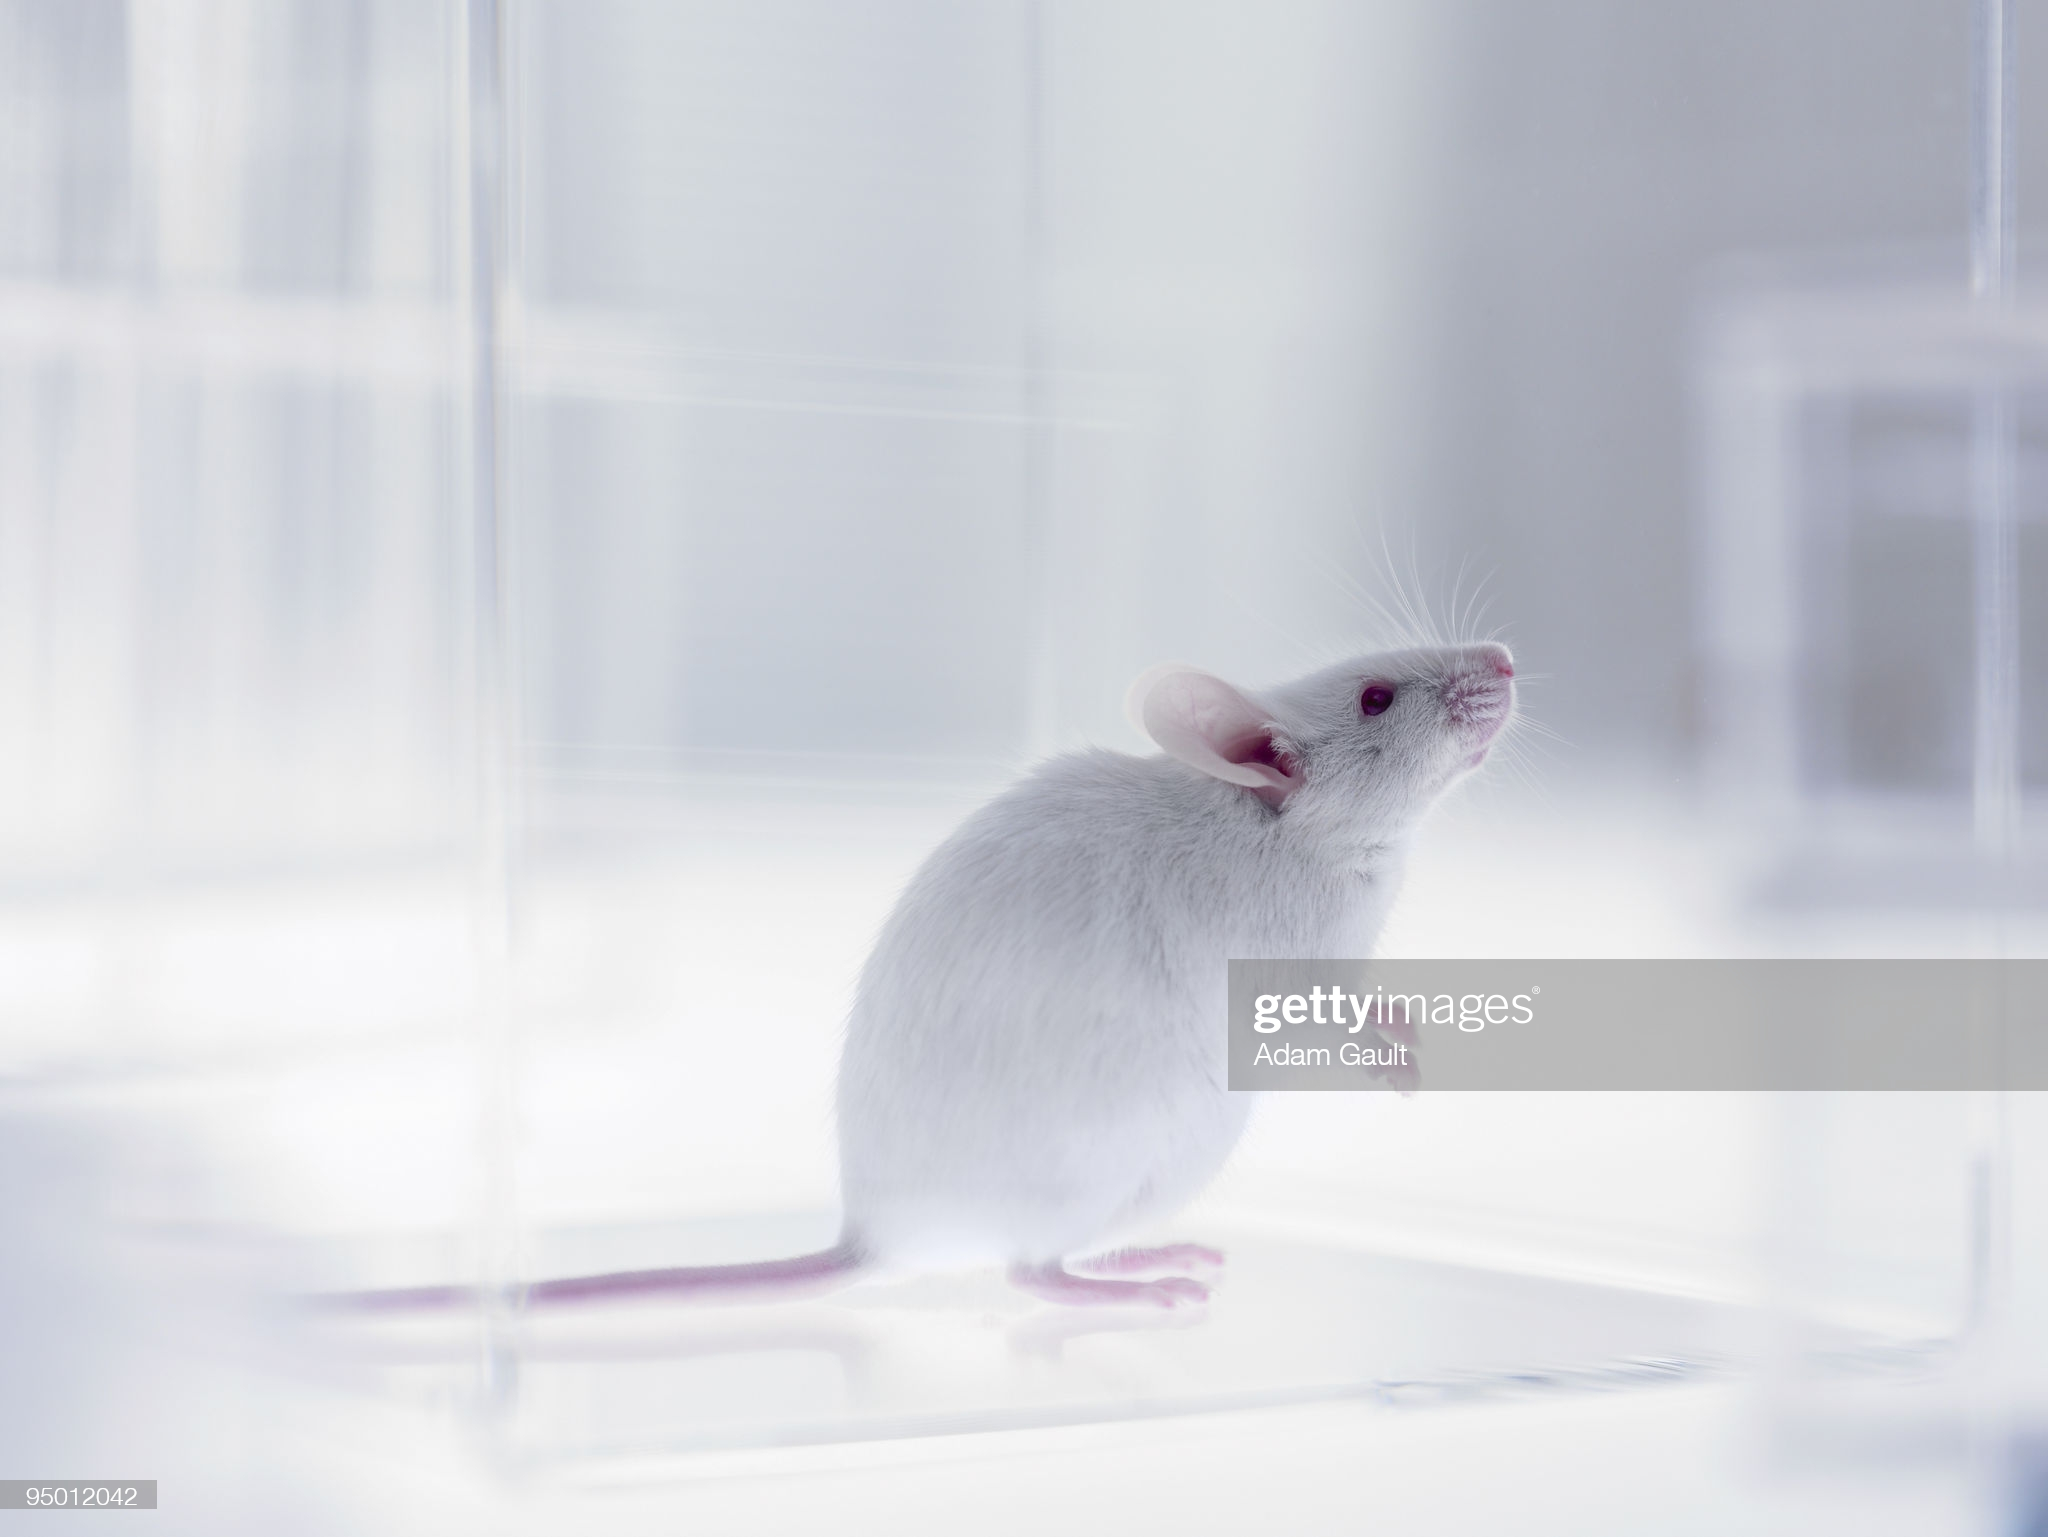mouse: (873, 567, 1511, 915)
